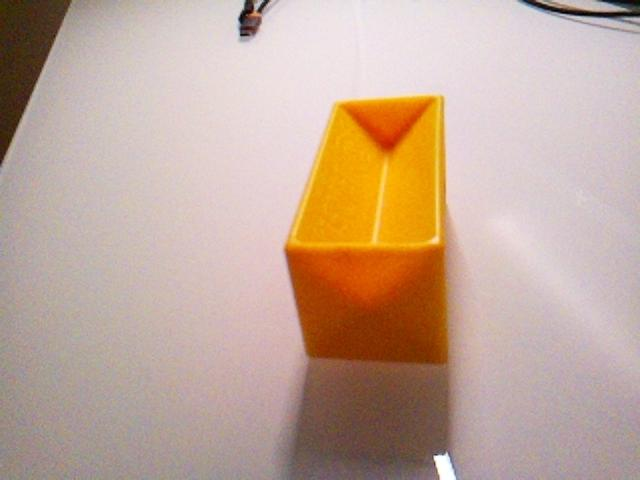yellow: (284, 93, 451, 366)
